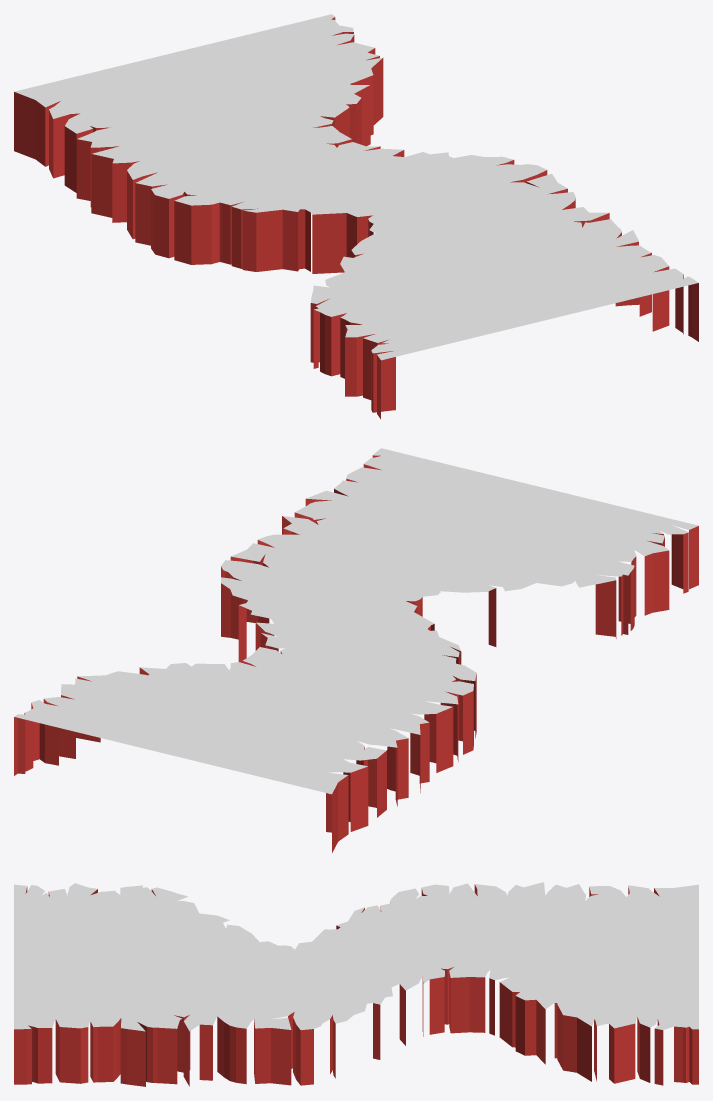
3 views of the same model, one above another, from view 1: azimuth 30°, elevation 25°; view 2: azimuth 150°, elevation 25°; view 3: azimuth 270°, elevation 25° (orthographic). The views are drawn at different scales.
Parts seen in each view (by area): view 1: L; view 2: L; view 3: L.
Part boxes in pixels (x1=…): L: x1=14, y1=14, x2=698, y2=418; L: x1=14, y1=448, x2=698, y2=852; L: x1=14, y1=882, x2=698, y2=1086.
Size of the model in its own units: 2892 by 500 by 5600.
